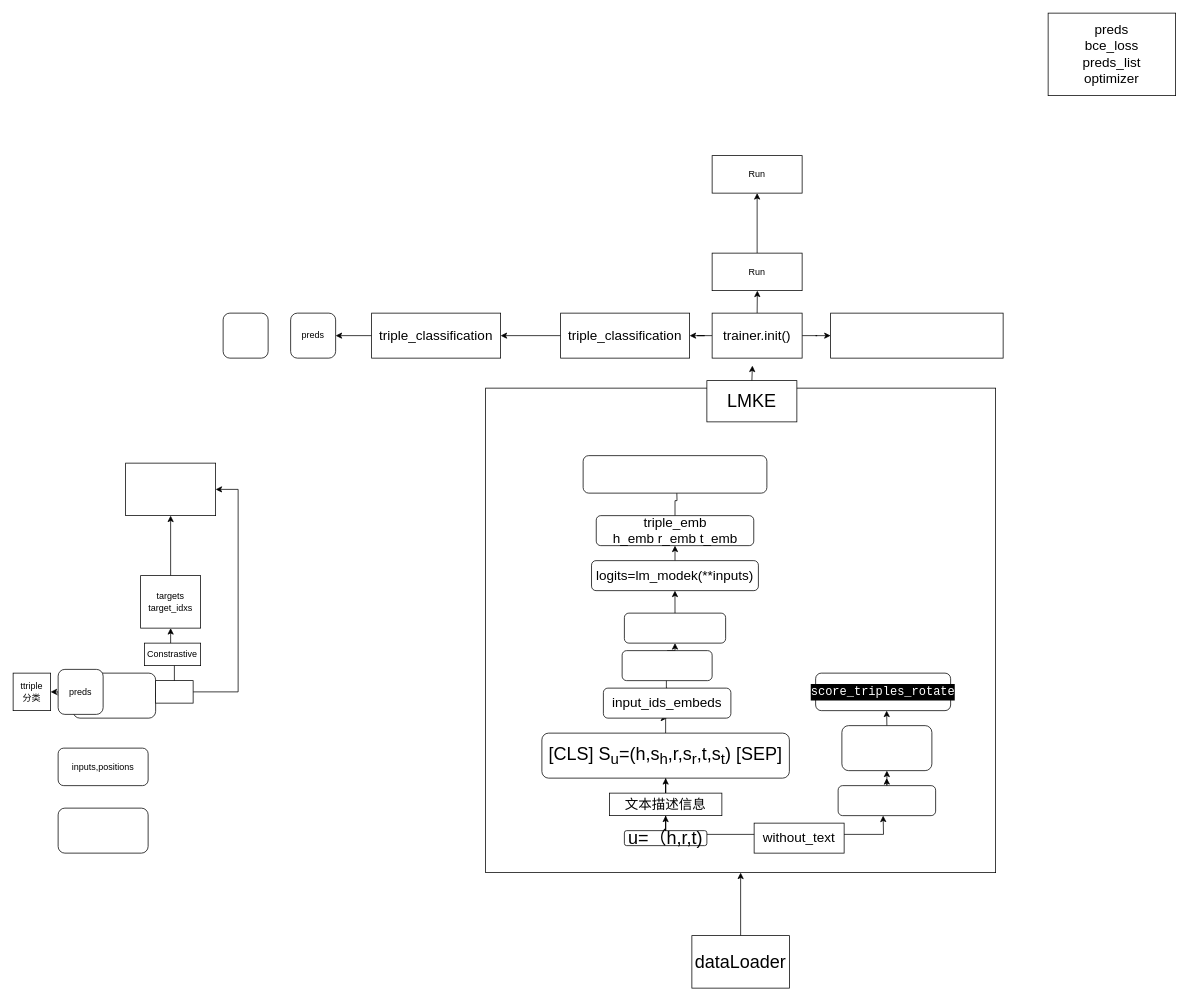
This 1189x1001 diagram has some shape labels left out. Here are the shapes that lost their labels. From the top down, the box of each, then its label:
(222, 312, 268, 358): loss
(830, 312, 1003, 358): Link_prediction
(125, 462, 216, 516): labels label_idx candidate_degrees
(582, 455, 767, 493): Triple Classification nn.Linear
(624, 612, 726, 643): input_embeds
(621, 650, 712, 681): mask_emb
(72, 672, 156, 718): label
(155, 680, 193, 703): LP
(841, 725, 932, 771): score_triples _transe
(837, 785, 936, 816): h/r/t emb_list
(57, 807, 148, 853): train_data
